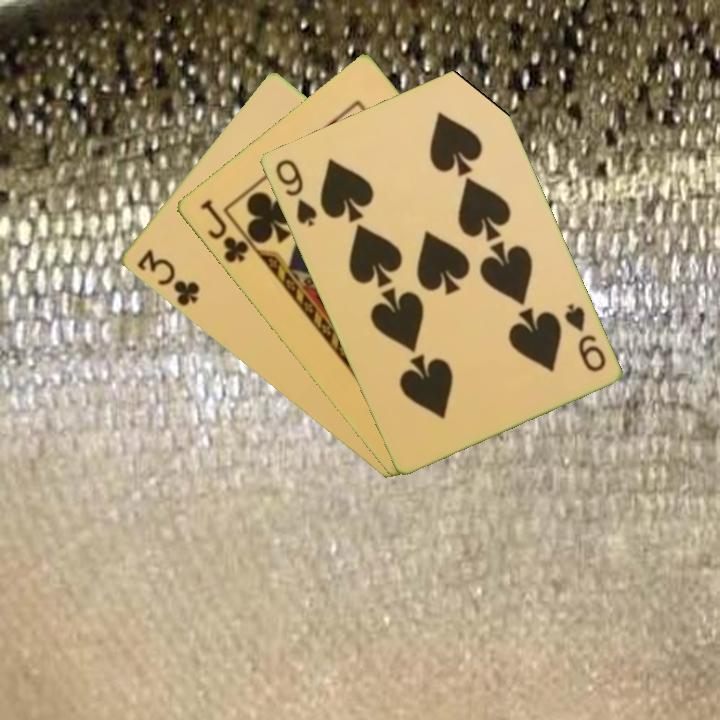3c: (132, 245, 202, 310)
9s: (560, 299, 609, 375), (271, 155, 320, 229)
Jc: (195, 196, 252, 266)
